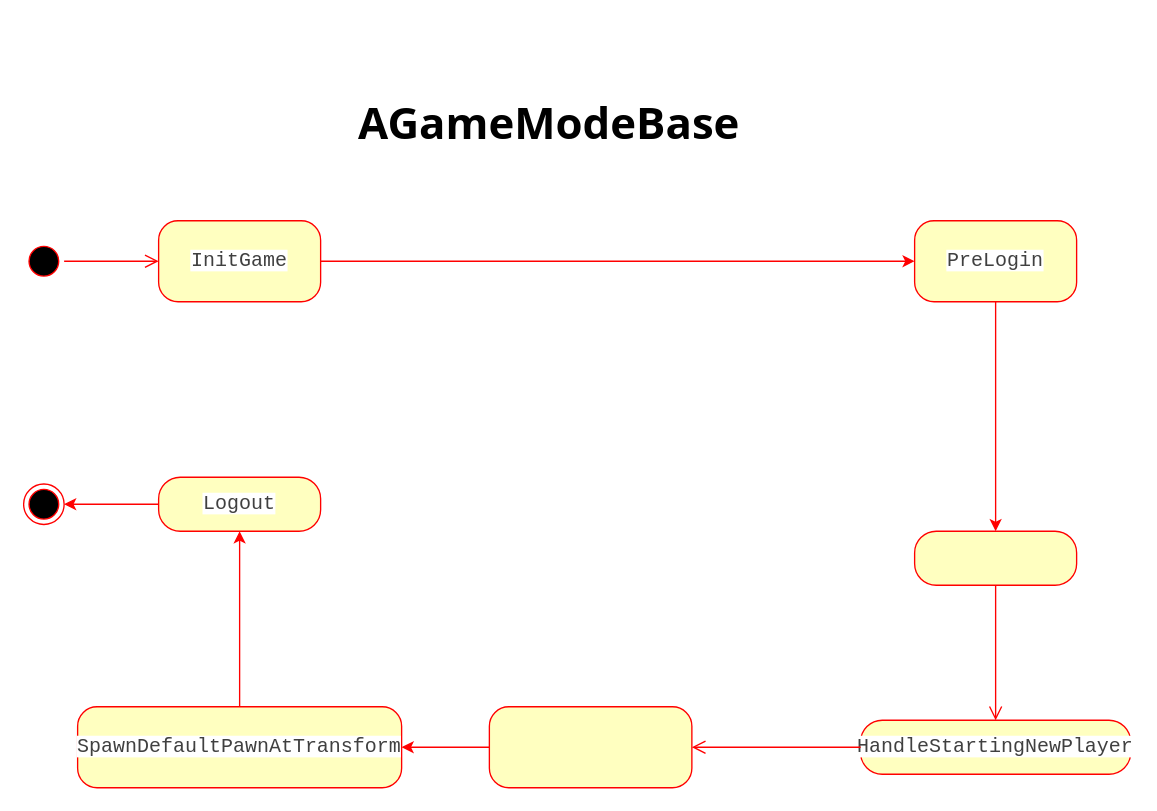
This 1157x811 diagram has some shape labels left out. Here are the shapes that lost their labels. From the top down, the centre of each, then its label:
At pixel 995 557: "PostLogin".
At pixel 590 746: "RestartPlayer".
